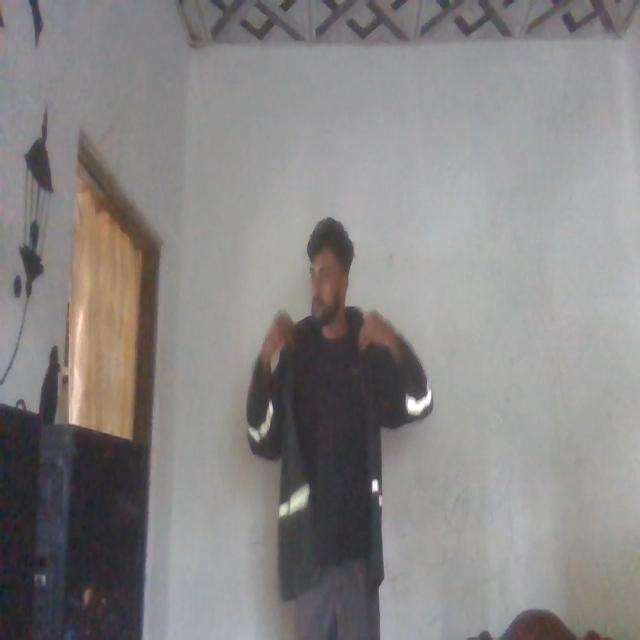Jacket_Wearer: (249, 301, 437, 599)
Person: (251, 204, 431, 640)
